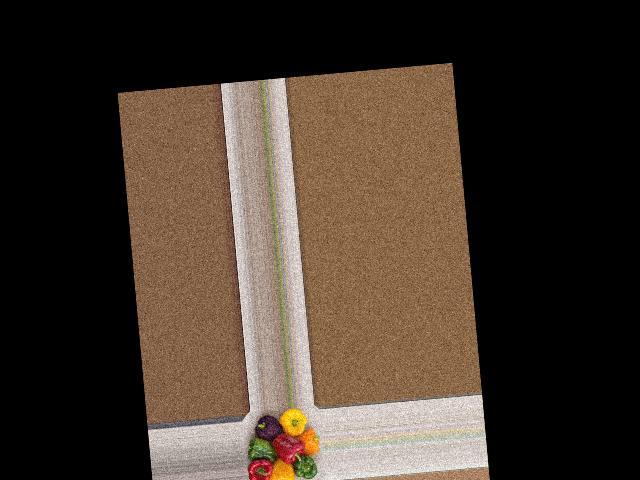bell_pepper: (247, 415, 284, 447)
